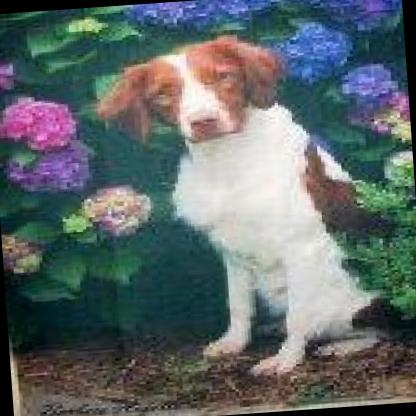Brittany_spaniel: (74, 24, 386, 388)
